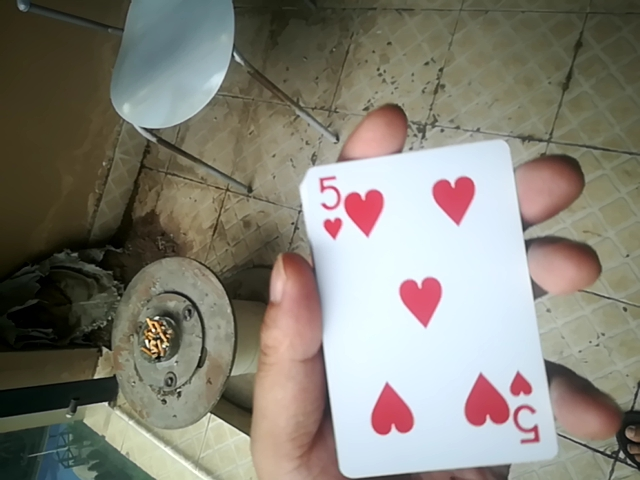hx 5: (303, 134, 556, 472)
